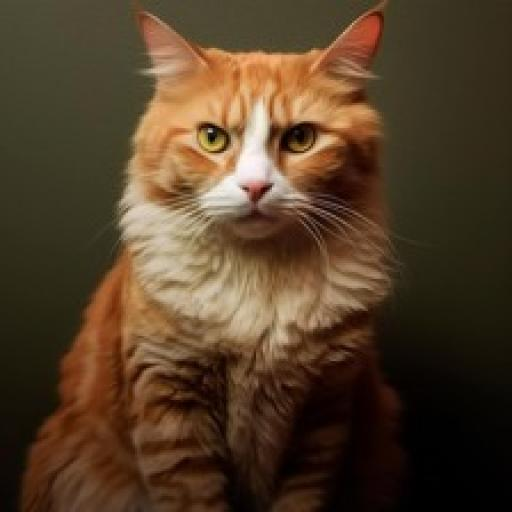cat: (20, 0, 430, 512)
